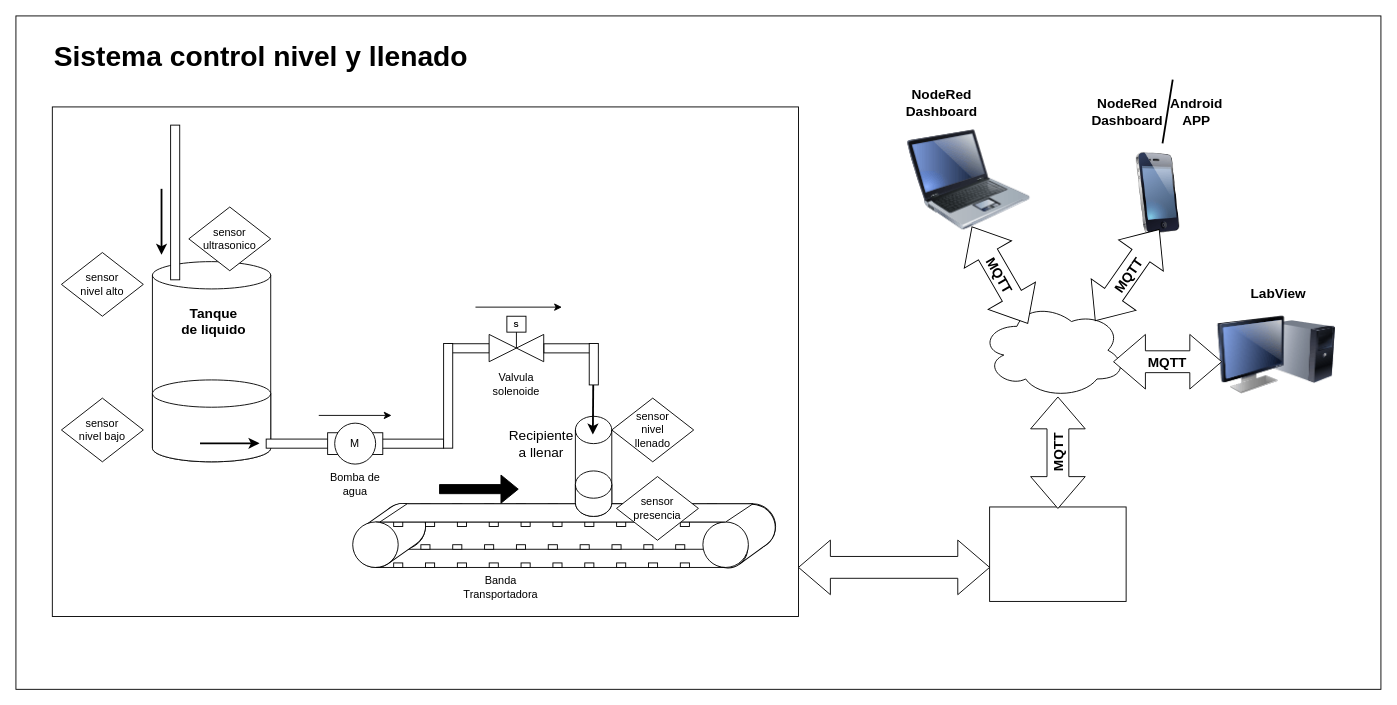
Image size: 1397x705. Some labels were removed from this diagram. Each missing label, with the centre of its shape:
"Broker" belongs at pixel 1053 349.
"ESP32" belongs at pixel 1057 553.
